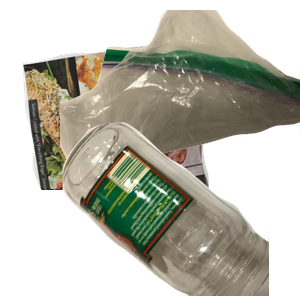glass: (60, 120, 300, 300)
paper: (20, 34, 221, 214)
plastic: (98, 176, 266, 300)
trash: (60, 10, 300, 176)
